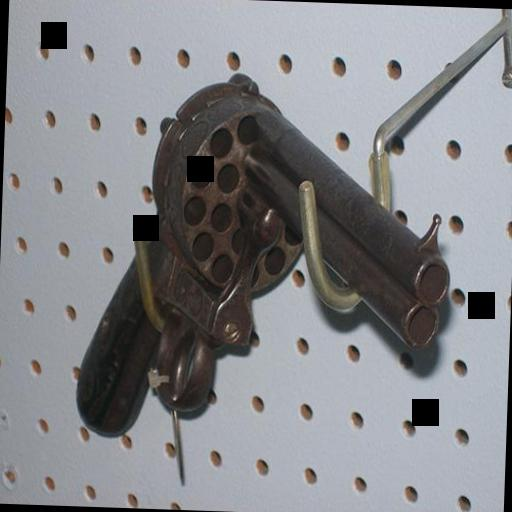Handgun: (72, 54, 459, 437)
